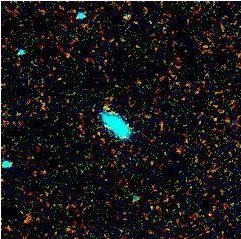star: (89, 94, 119, 124)
